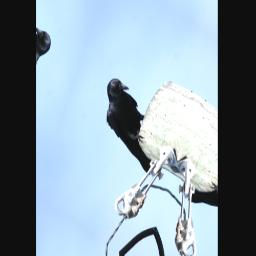Crow: (91, 73, 172, 176)
